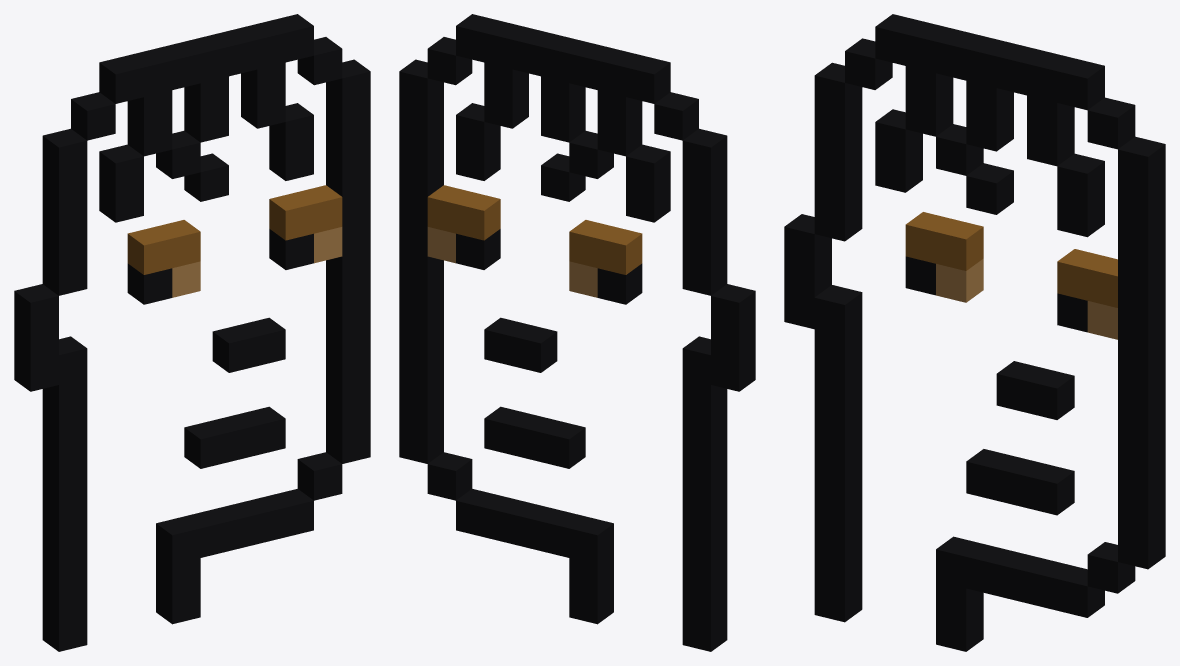
The picture shows the model from 3 angles, left to right: view 1: azimuth 30°, elevation 25°; view 2: azimuth 150°, elevation 25°; view 3: azimuth 330°, elevation 25°; orthographic projection. The views are drawn at different scales.
Parts seen in each view (by area): view 1: NoPunk_271_Mesh; view 2: NoPunk_271_Mesh; view 3: NoPunk_271_Mesh.
Part boxes in pixels (x1,y1,x2,y2): NoPunk_271_Mesh: (14, 14, 370, 651); NoPunk_271_Mesh: (399, 14, 755, 651); NoPunk_271_Mesh: (784, 14, 1165, 651).
Size of the model in its own units: 12 by 19 by 1.
